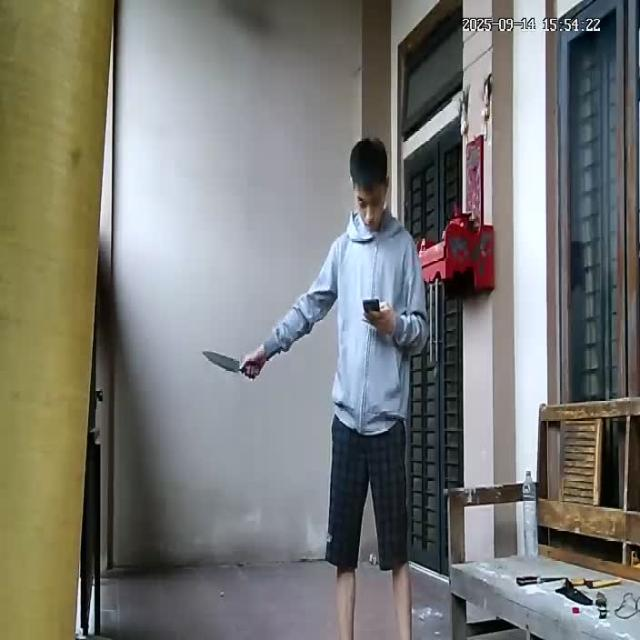senjata_tajam: (201, 348, 242, 376)
